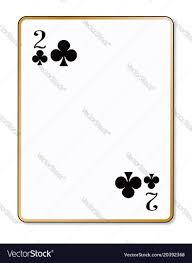two of clubs: (20, 18, 176, 219)
